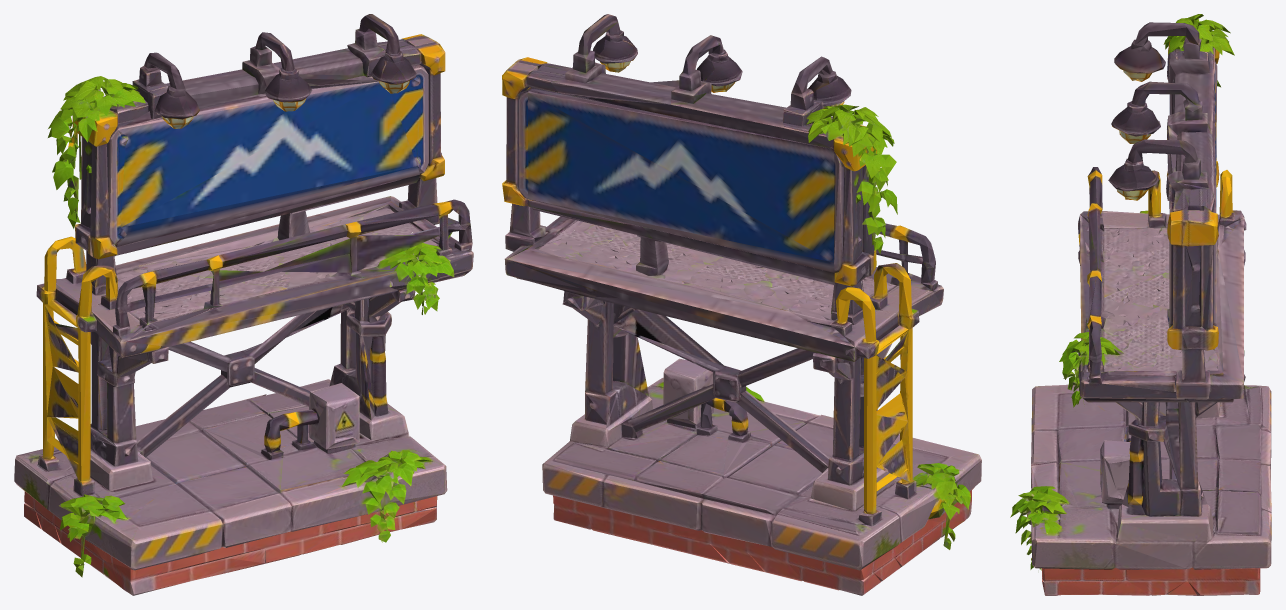
File: industrial_billboard_platform.glb
The picture shows the model from 3 angles, left to right: view 1: azimuth 30°, elevation 25°; view 2: azimuth 150°, elevation 25°; view 3: azimuth 270°, elevation 25°; orthographic projection.
Visible parts, largest first — view 1: output_unwrapped; view 2: output_unwrapped; view 3: output_unwrapped.
Boxes of the visible parts, box(x1,y1,x2,y2) form: output_unwrapped: box(14, 14, 473, 595); output_unwrapped: box(502, 14, 981, 595); output_unwrapped: box(1010, 14, 1271, 595).
Size of what is drawn, in the model's own units: 0.9124 by 1 by 0.4976.
1 material, 1 textured.
